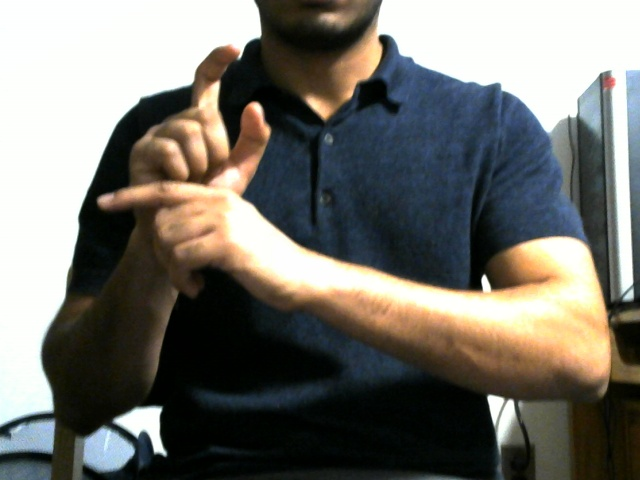call: (57, 33, 321, 277)
